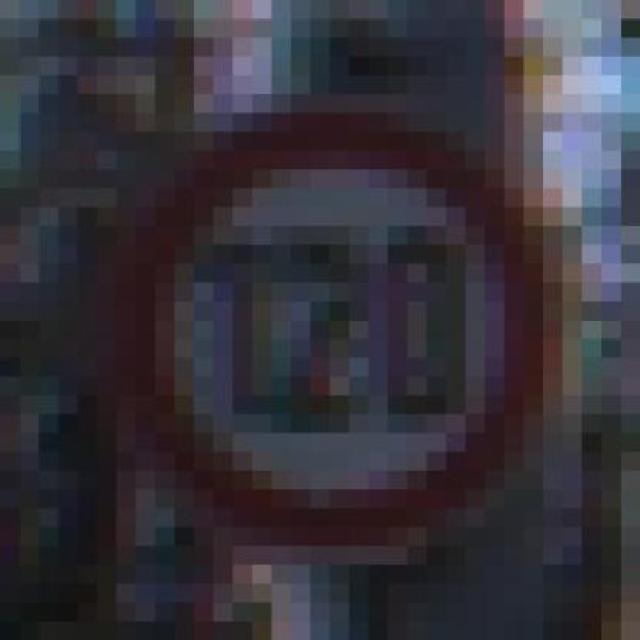forb_speed_over_120: (134, 115, 549, 548)
